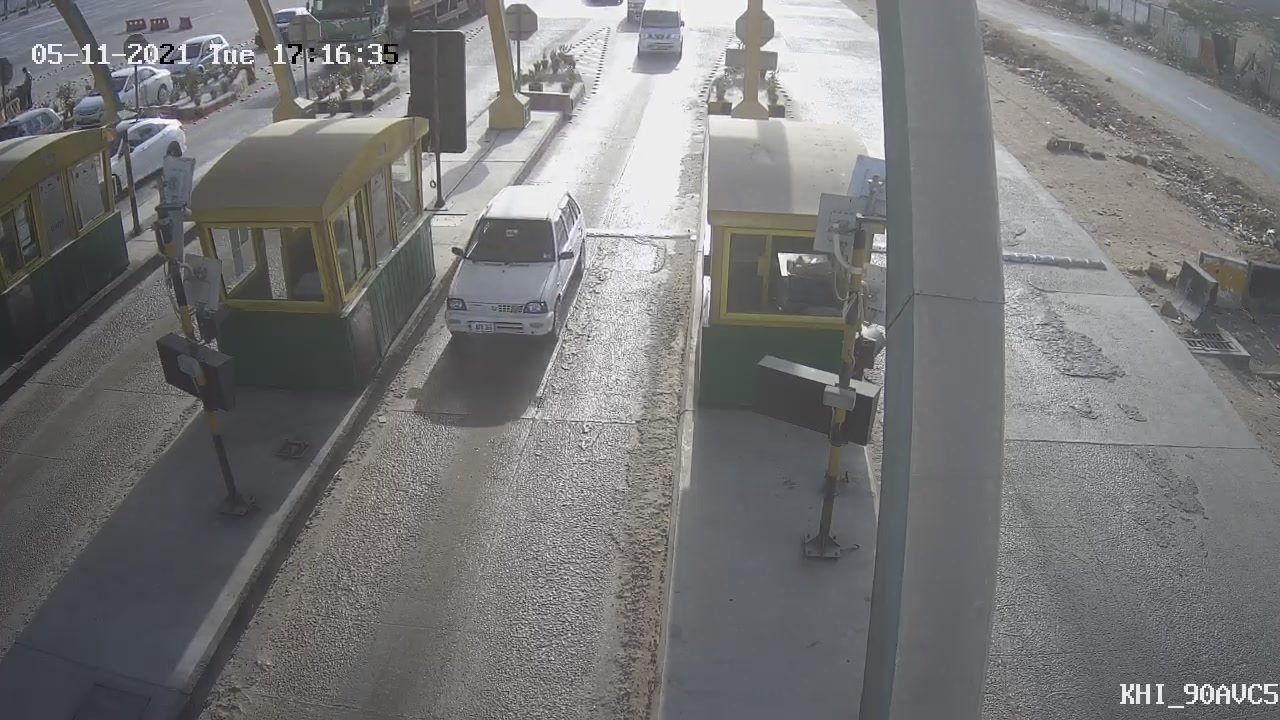F1: (412, 169, 600, 362)
